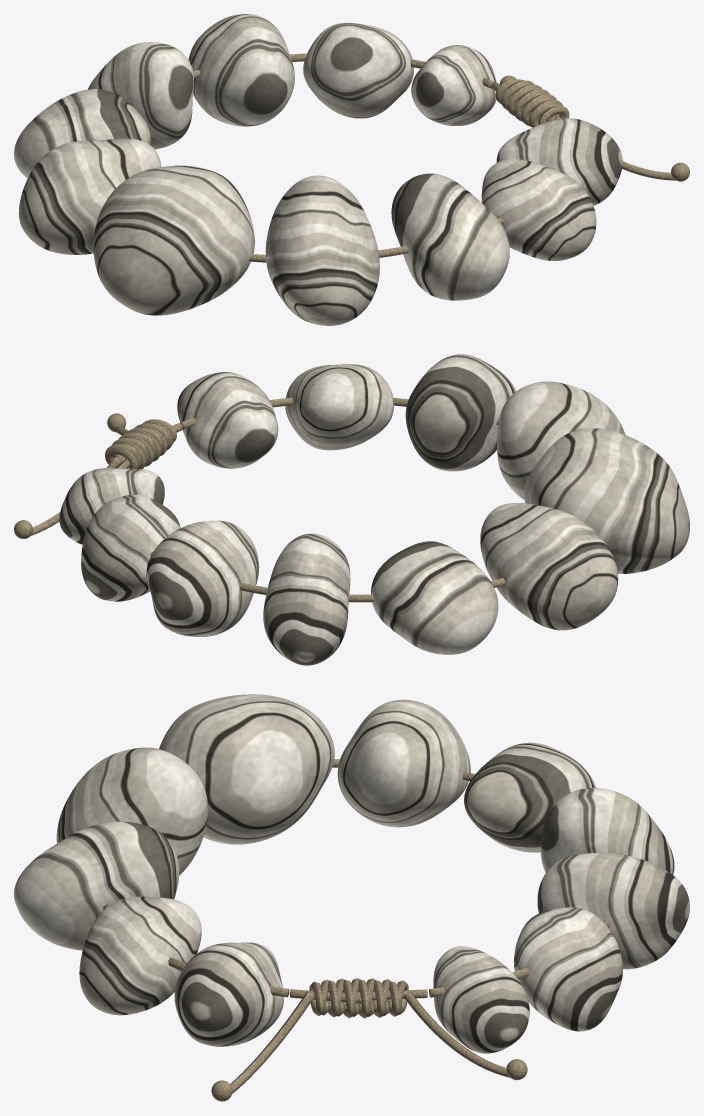
File: krzemien.glb
3 renders of one model, top to bottom at view 1: azimuth 30°, elevation 25°; view 2: azimuth 150°, elevation 25°; view 3: azimuth 270°, elevation 25°, orthographic. The views are drawn at different scales.
Parts seen in each view (by area): view 1: bead_pebble_1.001, bead_pebble_2.001, bead_pebble_3.001, bead_pebble_0.001, bead_pebble_2, bead_pebble_4.001, bead_pebble_1, bead_pebble_3, bead_pebble_4, bead_pebble_0.002, bead_pebble_0, nic.018; view 2: bead_pebble_1.001, bead_pebble_0.001, bead_pebble_4, bead_pebble_2, bead_pebble_3.001, bead_pebble_3, bead_pebble_0.002, bead_pebble_4.001, bead_pebble_1, bead_pebble_2.001, bead_pebble_0, nic.018; view 3: bead_pebble_1.001, bead_pebble_3.001, bead_pebble_0.001, bead_pebble_4.001, bead_pebble_2, bead_pebble_2.001, bead_pebble_1, bead_pebble_0.002, bead_pebble_4, bead_pebble_0, bead_pebble_3, koncowka.036 (+2 smaller).
Boxes of the visible parts, box(x1,y1,x2,y2) form: bead_pebble_1.001: box(93, 165, 254, 315); bead_pebble_2.001: box(265, 175, 379, 325); bead_pebble_3.001: box(391, 173, 509, 300); bead_pebble_0.001: box(18, 138, 161, 254); bead_pebble_2: box(188, 14, 294, 126); bead_pebble_4.001: box(481, 159, 596, 260); bead_pebble_1: box(303, 22, 413, 118); bead_pebble_3: box(88, 42, 193, 149); bead_pebble_4: box(14, 89, 150, 178); bead_pebble_0.002: box(496, 118, 622, 205); bead_pebble_0: box(411, 45, 496, 125); nic.018: box(193, 53, 503, 262); bead_pebble_1.001: box(524, 428, 689, 573); bead_pebble_0.001: box(480, 503, 618, 630); bead_pebble_4: box(371, 541, 498, 654); bead_pebble_2: box(146, 520, 259, 636); bead_pebble_3.001: box(405, 354, 515, 471); bead_pebble_3: box(263, 533, 350, 665); bead_pebble_0.002: box(177, 372, 278, 468); bead_pebble_4.001: box(285, 364, 393, 450); bead_pebble_1: box(81, 494, 180, 601); bead_pebble_2.001: box(497, 381, 625, 499); bead_pebble_0: box(59, 468, 164, 544); nic.018: box(150, 397, 505, 602); bead_pebble_1.001: box(159, 694, 334, 844); bead_pebble_3.001: box(14, 821, 179, 950); bead_pebble_0.001: box(337, 699, 470, 827); bead_pebble_4.001: box(79, 896, 201, 1015); bead_pebble_2: box(537, 852, 689, 969); bead_pebble_2.001: box(56, 747, 208, 875); bead_pebble_1: box(514, 907, 622, 1031); bead_pebble_0.002: box(174, 942, 283, 1046); bead_pebble_4: box(464, 742, 596, 852); bead_pebble_0: box(433, 946, 529, 1053); bead_pebble_3: box(540, 788, 674, 874); koncowka.036: box(403, 991, 509, 1077).
Size of the model in its own units: 7.83 by 1.69 by 7.05.
4 materials, 4 textured.
